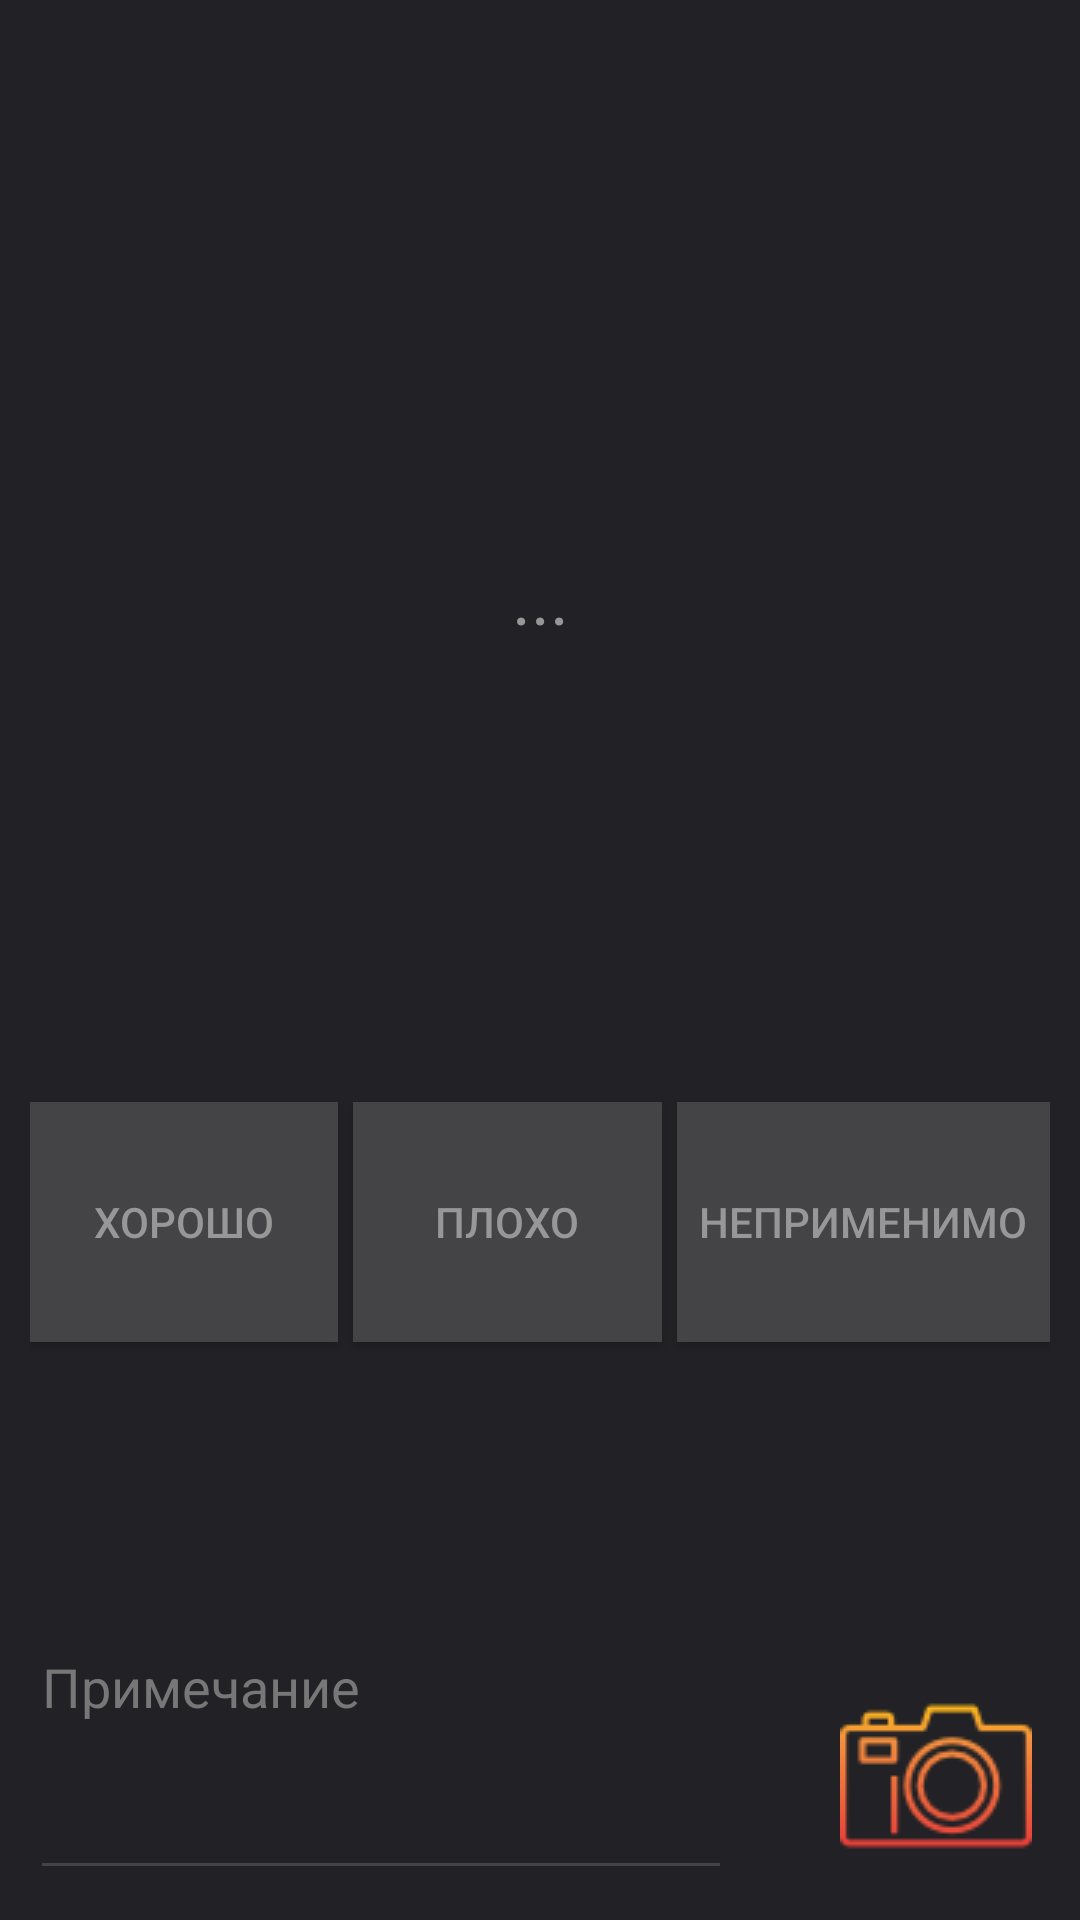

Icons on this 1080*1920 Android screen, each with its box as (x1, y1, x2, y2):
camera gold: (840, 1703, 1032, 1849)
